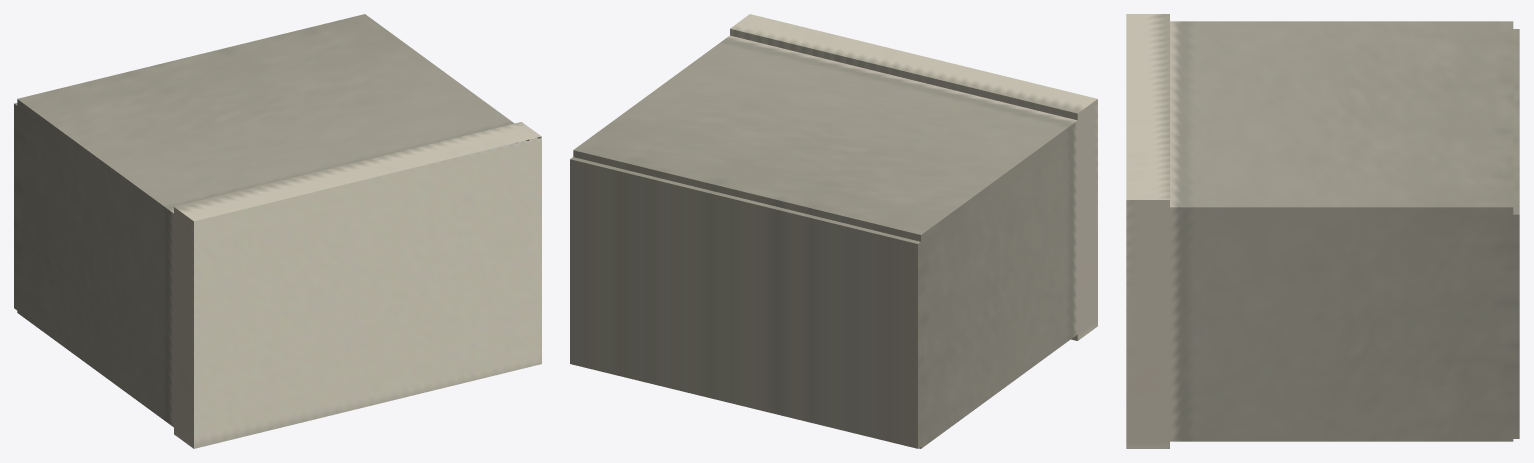
File: pz_counter_white_floor.obj
The picture shows the model from 3 angles, left to right: view 1: azimuth 30°, elevation 25°; view 2: azimuth 150°, elevation 25°; view 3: azimuth 270°, elevation 25°; orthographic projection. The views are drawn at different scales.
Size of the model in its own units: 1 by 0.6266 by 0.895.
1 material, 1 textured.
